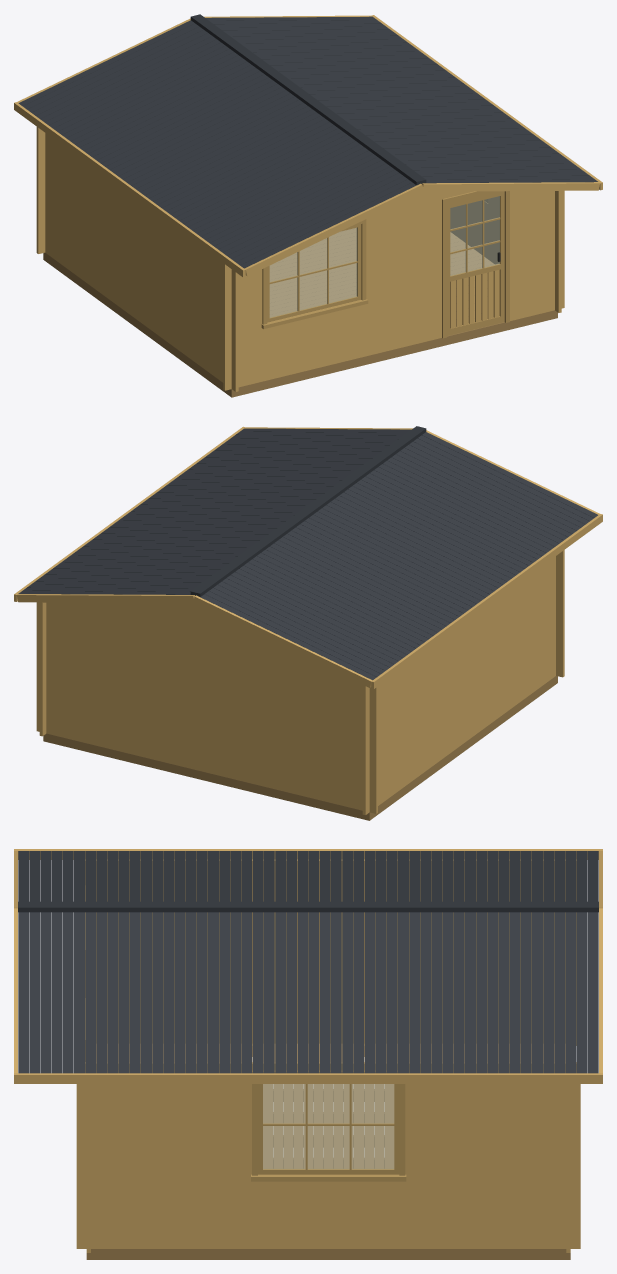
File: диогу_5_5_44_мм.glb
3 views of the same model, one above another, from view 1: azimuth 30°, elevation 25°; view 2: azimuth 150°, elevation 25°; view 3: azimuth 270°, elevation 25° (orthographic). The views are drawn at different scales.
Parts seen in each view (by area): view 1: roof, walls, floor, object 6, house, object 27, object 15, object 33, object 34, object 13, object 14; view 2: roof, walls, house; view 3: roof, walls, floor, object 40, house, object 47, object 39, object 45, object 44.
Part boxes in pixels (x1,y1,x2,y2): roof: [14, 14, 602, 277]; walls: [36, 127, 564, 391]; floor: [269, 228, 494, 325]; object 6: [270, 228, 356, 317]; house: [43, 252, 557, 397]; object 27: [450, 196, 499, 275]; object 15: [499, 191, 504, 322]; object 33: [442, 198, 446, 338]; object 34: [505, 191, 509, 322]; object 13: [261, 299, 368, 329]; object 14: [447, 202, 450, 335]; roof: [14, 426, 602, 689]; walls: [36, 550, 564, 814]; house: [43, 676, 557, 820]; roof: [14, 849, 602, 1083]; walls: [76, 859, 580, 1252]; floor: [96, 1043, 565, 1168]; object 40: [263, 1084, 393, 1168]; house: [86, 1046, 570, 1259]; object 47: [251, 1174, 406, 1181]; object 39: [258, 1168, 399, 1174]; object 45: [399, 1084, 405, 1175]; object 44: [252, 1070, 257, 1175].
Size of the model in its own units: 5.3 by 2.76 by 5.84.
